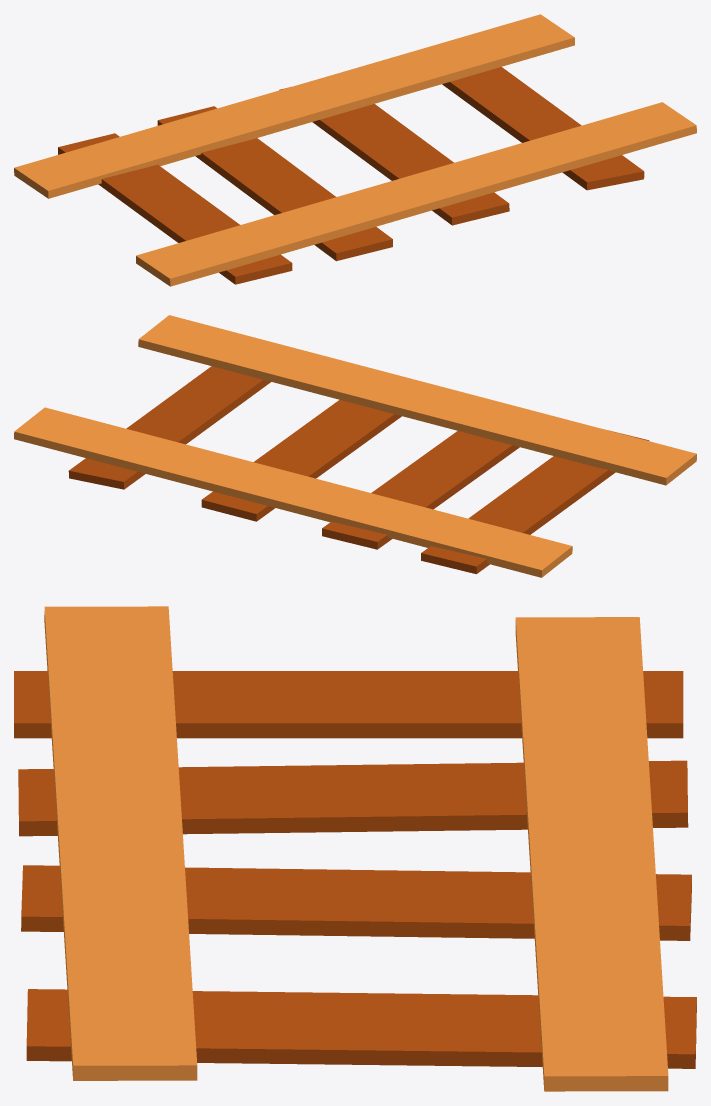
3 views of the same model, one above another, from view 1: azimuth 30°, elevation 25°; view 2: azimuth 150°, elevation 25°; view 3: azimuth 270°, elevation 25° (orthographic). The views are drawn at different scales.
Parts seen in each view (by area): view 1: group189436233, group1827257814, group542642967, group92416908, group846477578; view 2: group189436233, group846477578, group92416908, group542642967, group1827257814; view 3: group189436233, group92416908, group542642967, group1827257814, group846477578.
Part boxes in pixels (x1=…): group189436233: x1=14, y1=14, x2=696, y2=286; group1827257814: x1=157, y1=106, x2=392, y2=261; group542642967: x1=58, y1=133, x2=292, y2=284; group92416908: x1=442, y1=67, x2=644, y2=190; group846477578: x1=279, y1=87, x2=509, y2=225; group189436233: x1=14, y1=315, x2=696, y2=577; group846477578: x1=201, y1=400, x2=401, y2=521; group92416908: x1=68, y1=366, x2=270, y2=489; group542642967: x1=421, y1=430, x2=649, y2=574; group1827257814: x1=322, y1=431, x2=519, y2=549; group189436233: x1=44, y1=606, x2=668, y2=1091; group92416908: x1=26, y1=989, x2=696, y2=1068; group542642967: x1=14, y1=671, x2=683, y2=738; group1827257814: x1=18, y1=760, x2=688, y2=836; group846477578: x1=21, y1=865, x2=691, y2=940.
Bounding box in the file's own units: 0.757 × 0.0454 × 0.4402.
